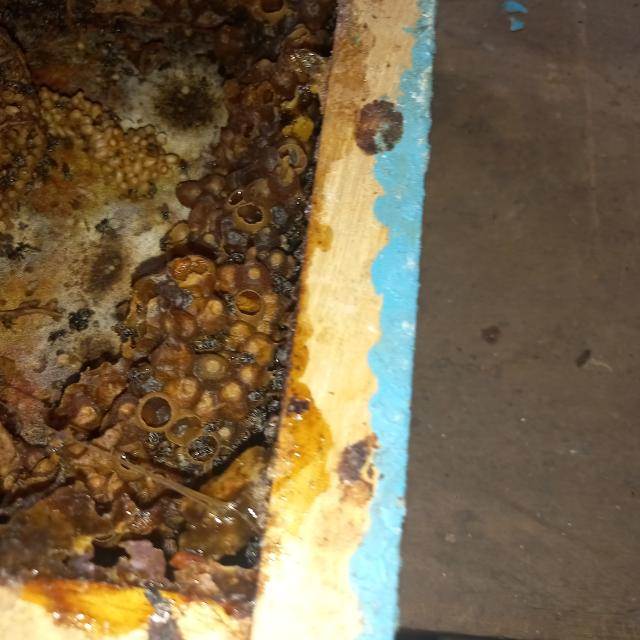honeybee: (10, 240, 24, 264), (95, 217, 108, 235), (61, 163, 73, 180), (161, 206, 172, 224), (180, 156, 190, 171)
